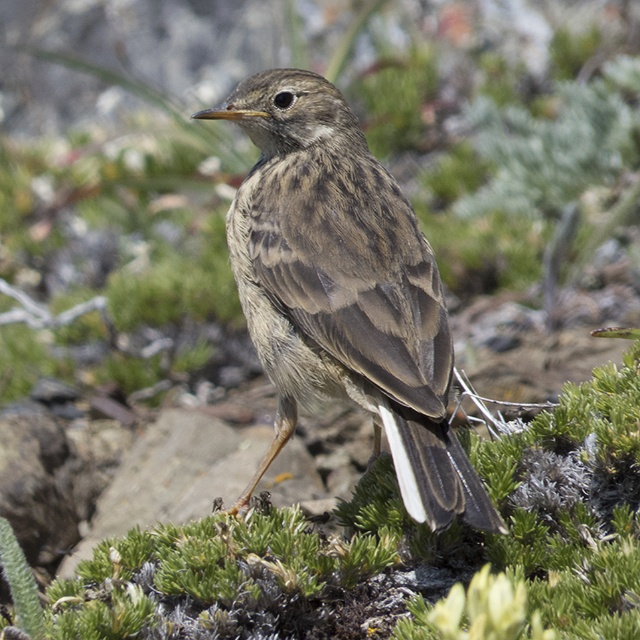Sparrow: (207, 72, 504, 537)
